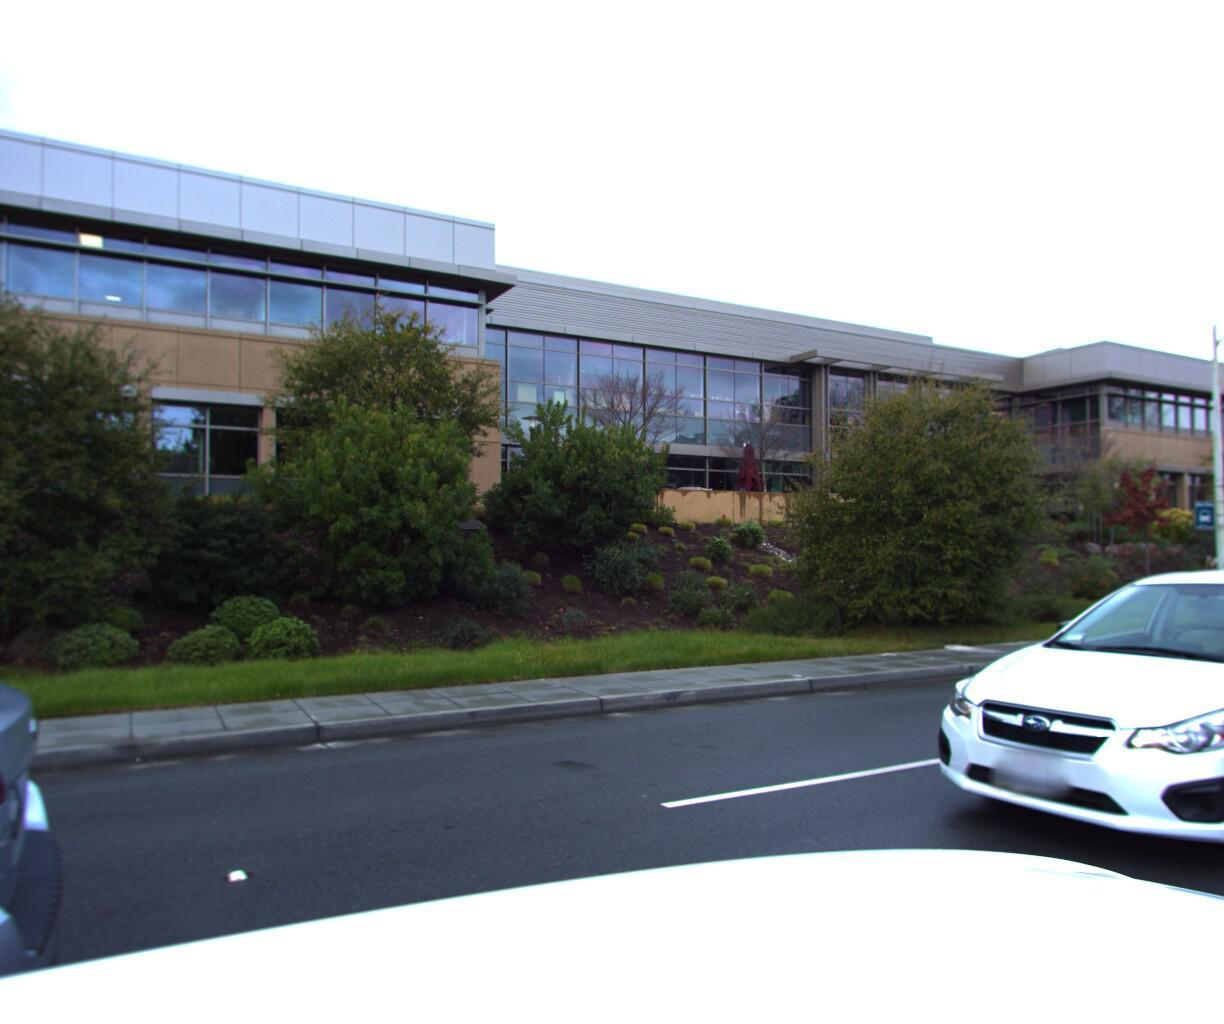car: (866, 552, 1224, 930)
